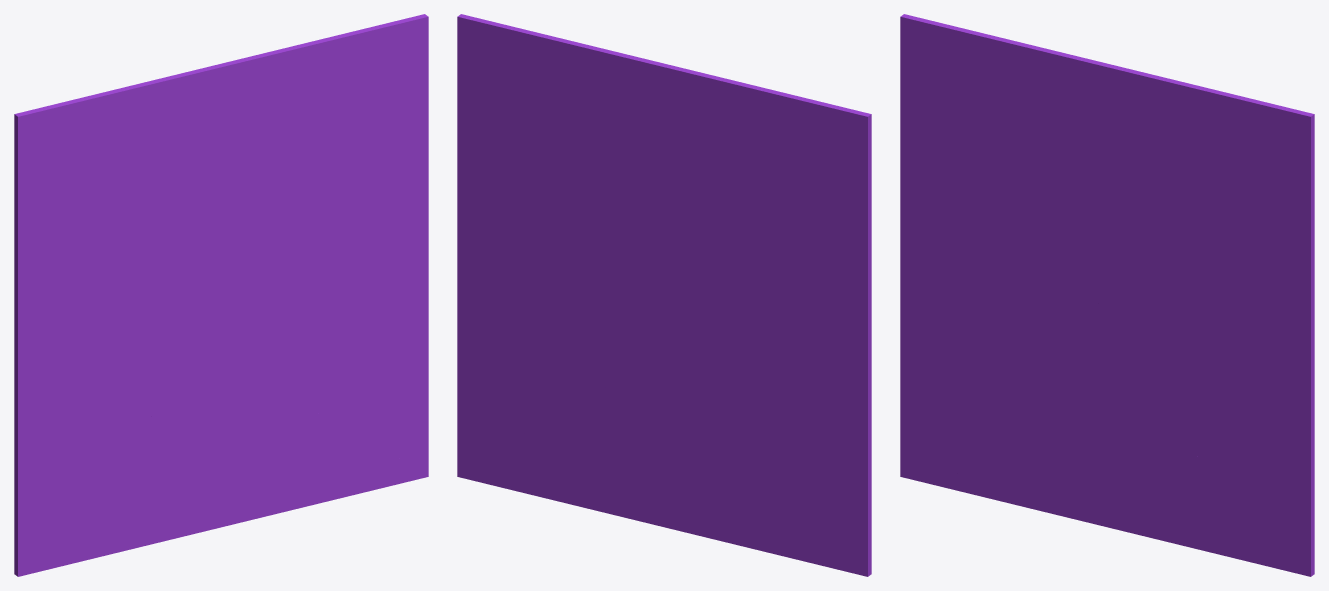
File: Window_6_chunks.fbx
3 views of the same model, side by side, from view 1: azimuth 30°, elevation 25°; view 2: azimuth 150°, elevation 25°; view 3: azimuth 330°, elevation 25° (orthographic).
Visible parts, largest first — view 1: Window_6_1, Window_6_8, Window_6_4, Window_6_6, Window_6_2, Window_6_12, Window_6_7, Window_6_5, Window_6_9, Window_6_0, Window_6_11, Window_6_10 (+1 smaller); view 2: Window_6_1, Window_6_8, Window_6_6, Window_6_4, Window_6_2, Window_6_12, Window_6_0, Window_6_7, Window_6_9, Window_6_5, Window_6_11, Window_6_10; view 3: Window_6_1, Window_6_8, Window_6_4, Window_6_6, Window_6_2, Window_6_12, Window_6_7, Window_6_5, Window_6_0, Window_6_9, Window_6_11, Window_6_10 (+1 smaller).
Part boxes in pixels (x1,y1,x2,y2): Window_6_1: (96, 14, 428, 296); Window_6_8: (14, 94, 183, 320); Window_6_4: (276, 292, 428, 474); Window_6_6: (14, 331, 157, 576); Window_6_2: (66, 291, 284, 561); Window_6_12: (242, 402, 428, 515); Window_6_7: (107, 236, 221, 405); Window_6_5: (14, 250, 108, 416); Window_6_9: (64, 443, 233, 565); Window_6_0: (254, 227, 428, 296); Window_6_11: (212, 401, 297, 487); Window_6_10: (138, 487, 266, 547); Window_6_1: (457, 14, 791, 291); Window_6_8: (698, 95, 871, 325); Window_6_6: (723, 324, 871, 576); Window_6_4: (457, 305, 608, 470); Window_6_2: (602, 303, 810, 550); Window_6_12: (457, 396, 646, 516); Window_6_0: (457, 217, 664, 308); Window_6_7: (664, 238, 775, 401); Window_6_9: (644, 432, 818, 564); Window_6_5: (784, 247, 871, 413); Window_6_11: (591, 386, 664, 475); Window_6_10: (623, 490, 732, 543); Window_6_1: (979, 34, 1314, 327); Window_6_8: (900, 14, 1065, 263); Window_6_4: (1159, 322, 1314, 574); Window_6_6: (900, 274, 1039, 487); Window_6_2: (948, 296, 1166, 485); Window_6_12: (1124, 438, 1314, 576); Window_6_7: (989, 216, 1103, 373); Window_6_5: (900, 150, 990, 316); Window_6_0: (1136, 306, 1314, 405); Window_6_9: (946, 438, 1115, 505); Window_6_11: (1095, 438, 1180, 496); Window_6_10: (1020, 493, 1149, 537).
Size of the model in its own units: 1728 by 1851 by 27.2.
